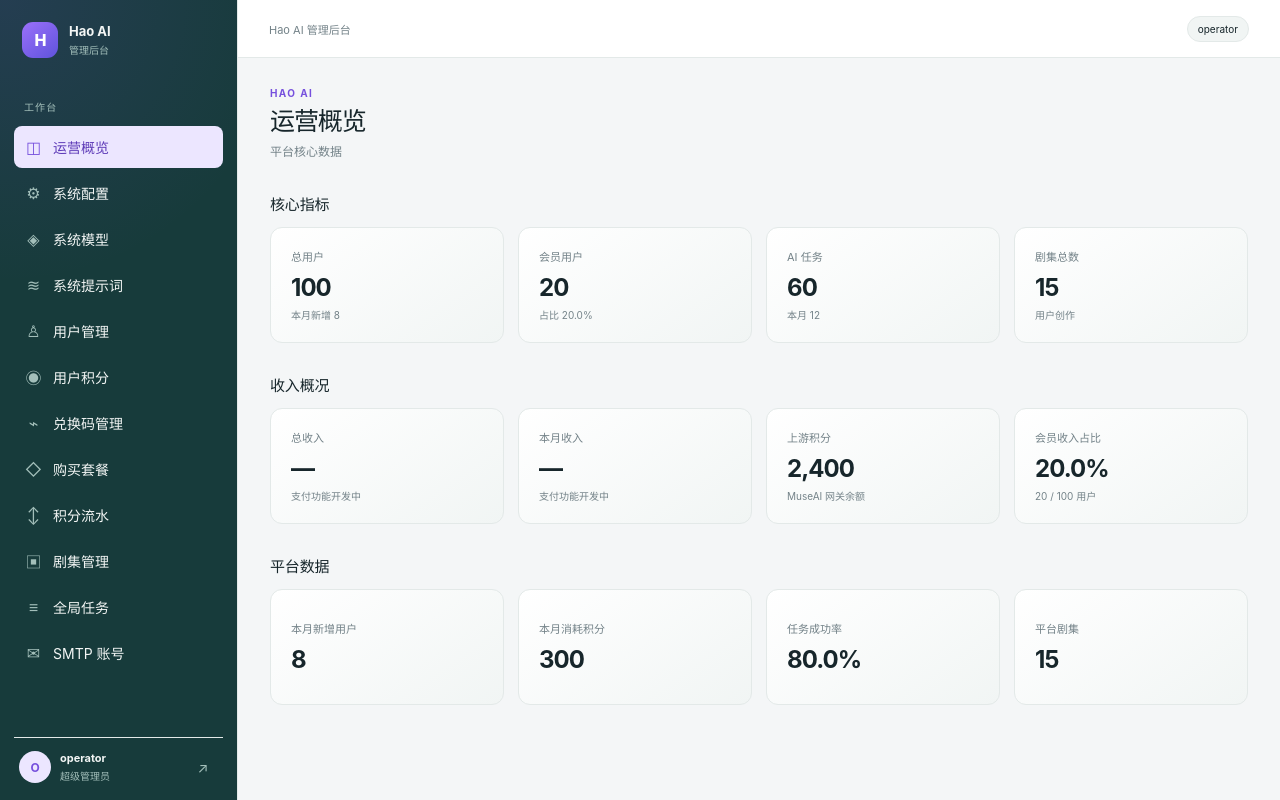
it: admin feature user flows › keeps both admin destinations and logout reachable by their accessible names
This screenshot has width=1280, height=800.
Expected: the heading "运营概览" is shown, [270,106,366,136]
Click the button "◈ 系统模型": (118, 239) [14,218,223,260]
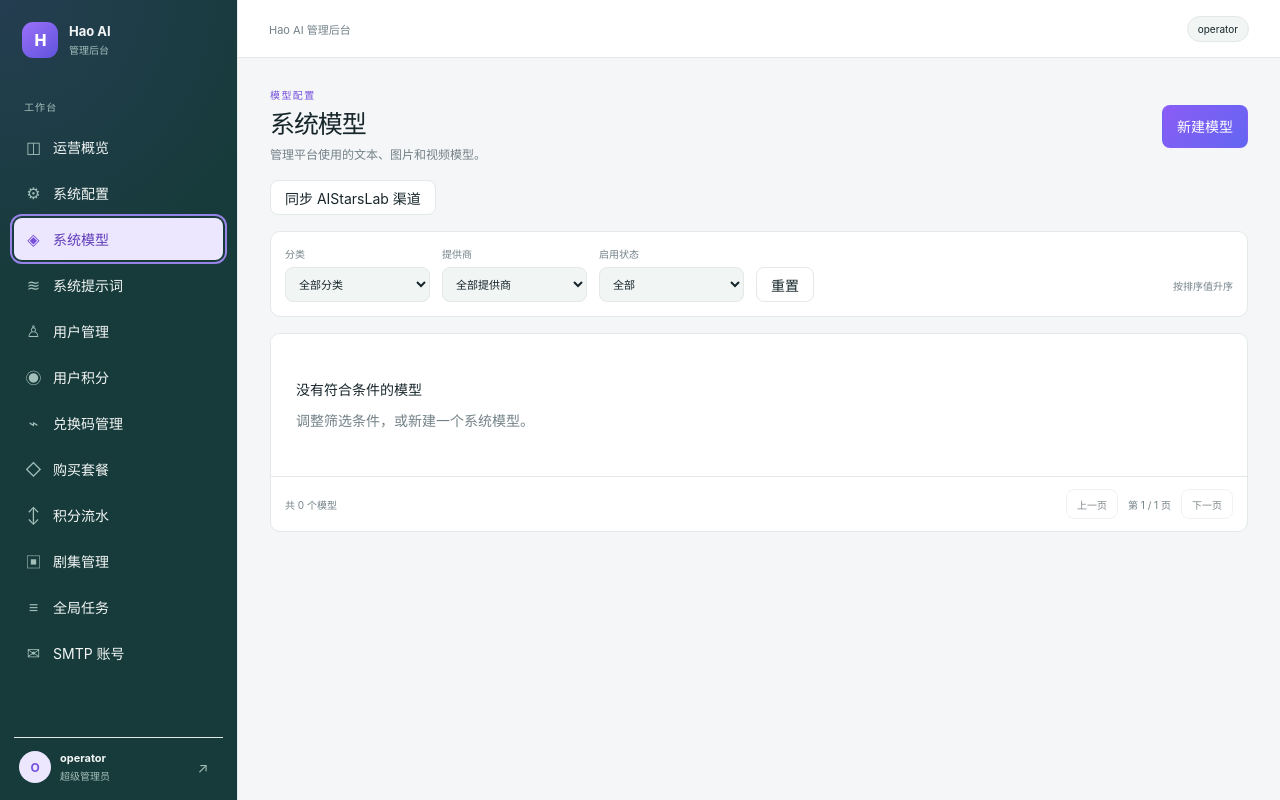
Now the heading "系统模型" is shown, box [270,109,366,139]
Click the button "◫ 运营概览": (118, 147) [14,126,223,168]
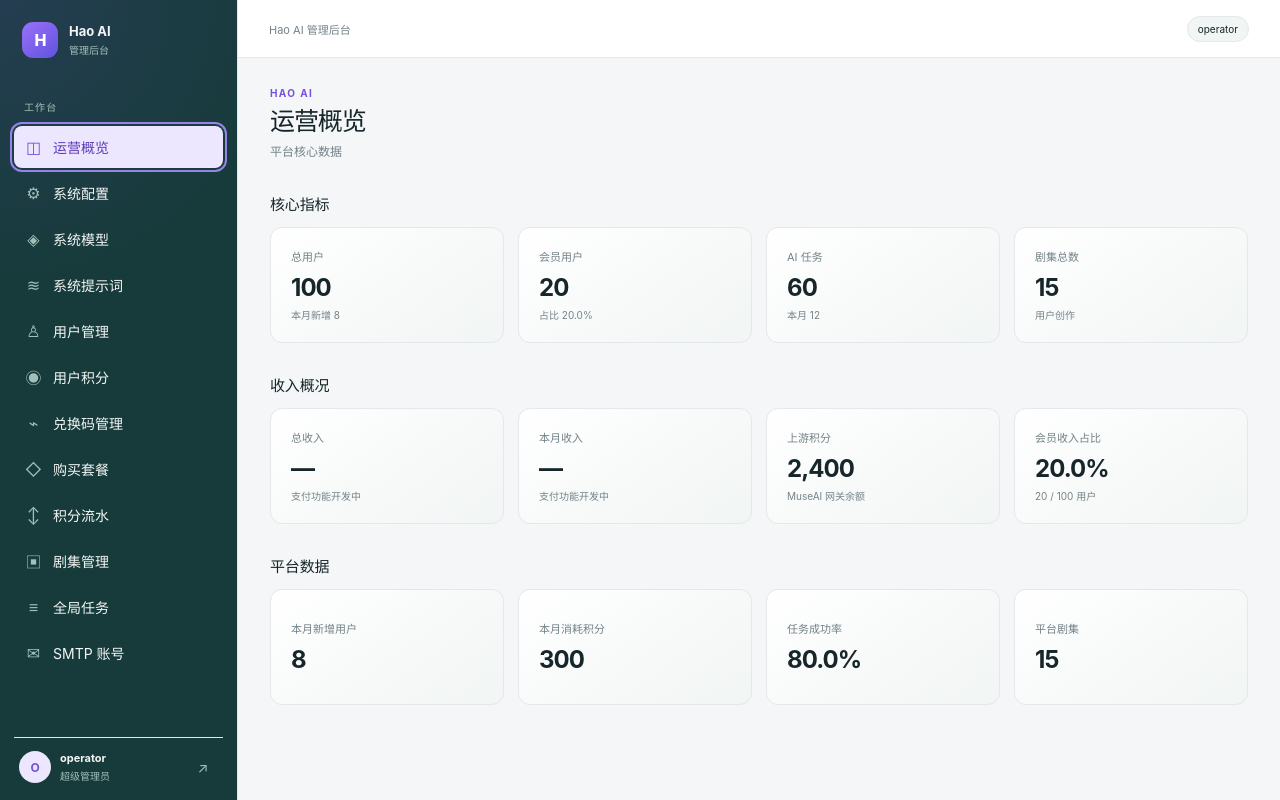
Now the heading "运营概览" is shown, box [270,106,366,136]
Click the button named "退出登录": (203, 767) [188,752,218,782]
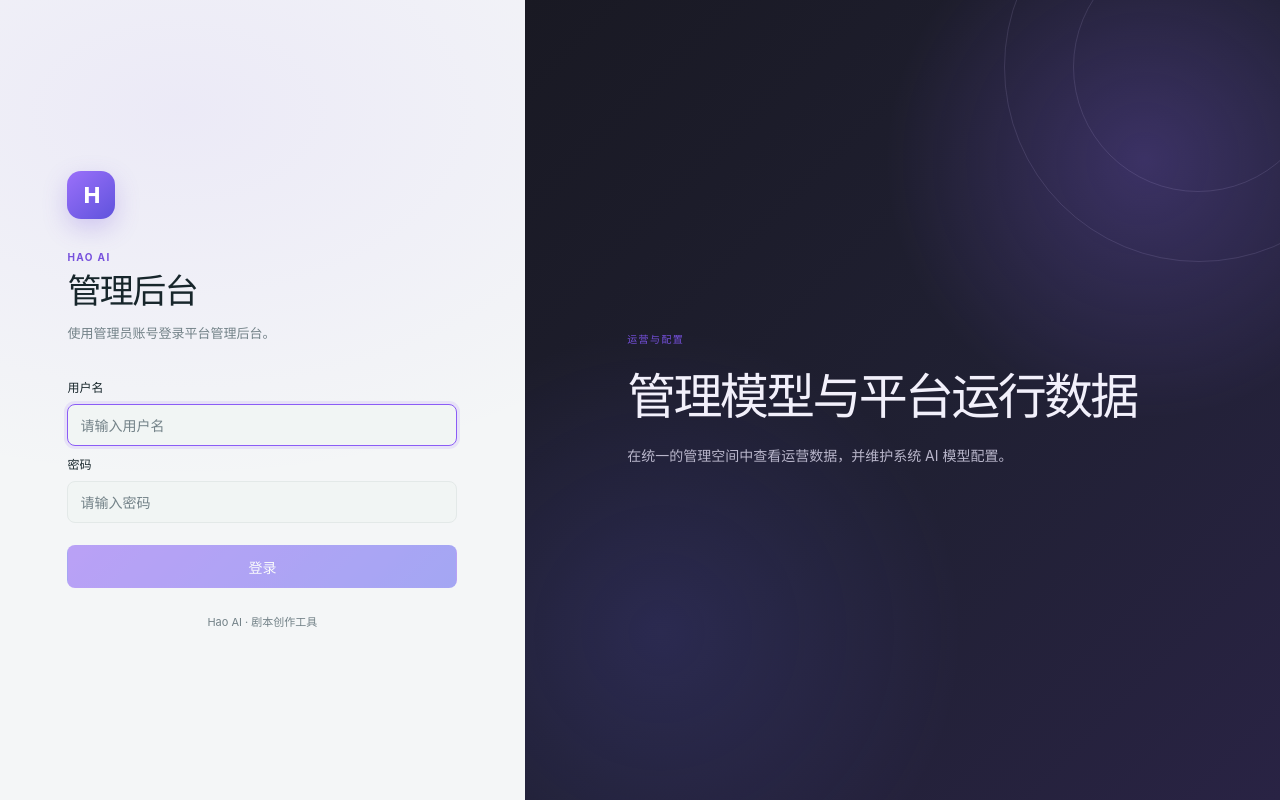
Now the heading "管理后台" is shown, box [67,270,197,310]
